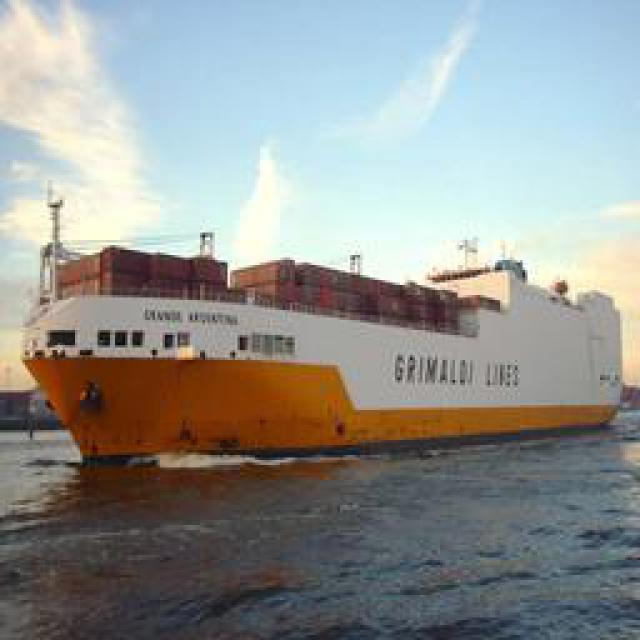Ship: (16, 215, 619, 468)
